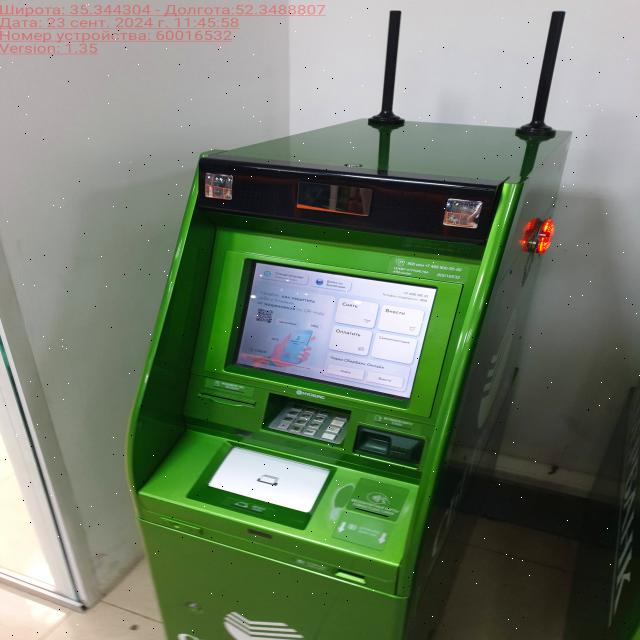bank: (128, 119, 572, 640)
